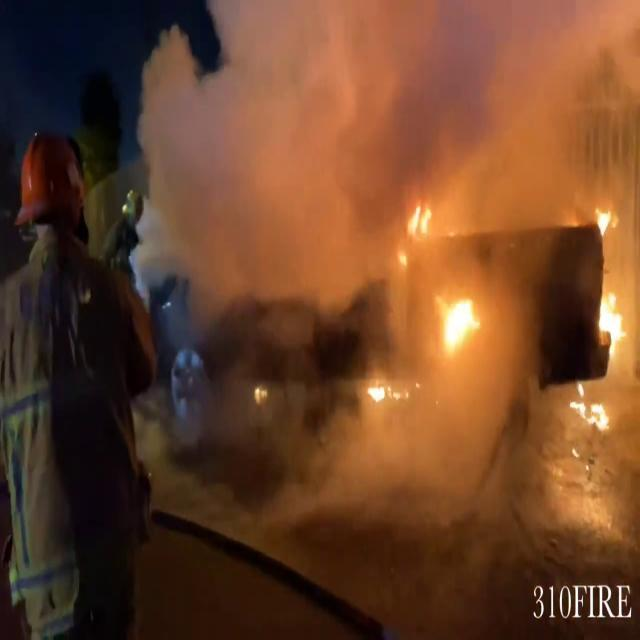Fire: (587, 201, 630, 355), (436, 290, 484, 364), (566, 382, 612, 434)
Smoke: (128, 1, 638, 343), (314, 234, 570, 508)
